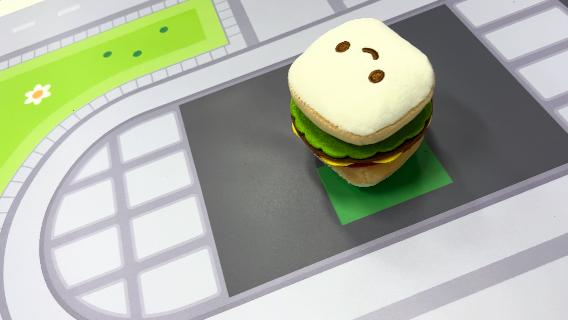sandwich: (286, 16, 438, 188)
